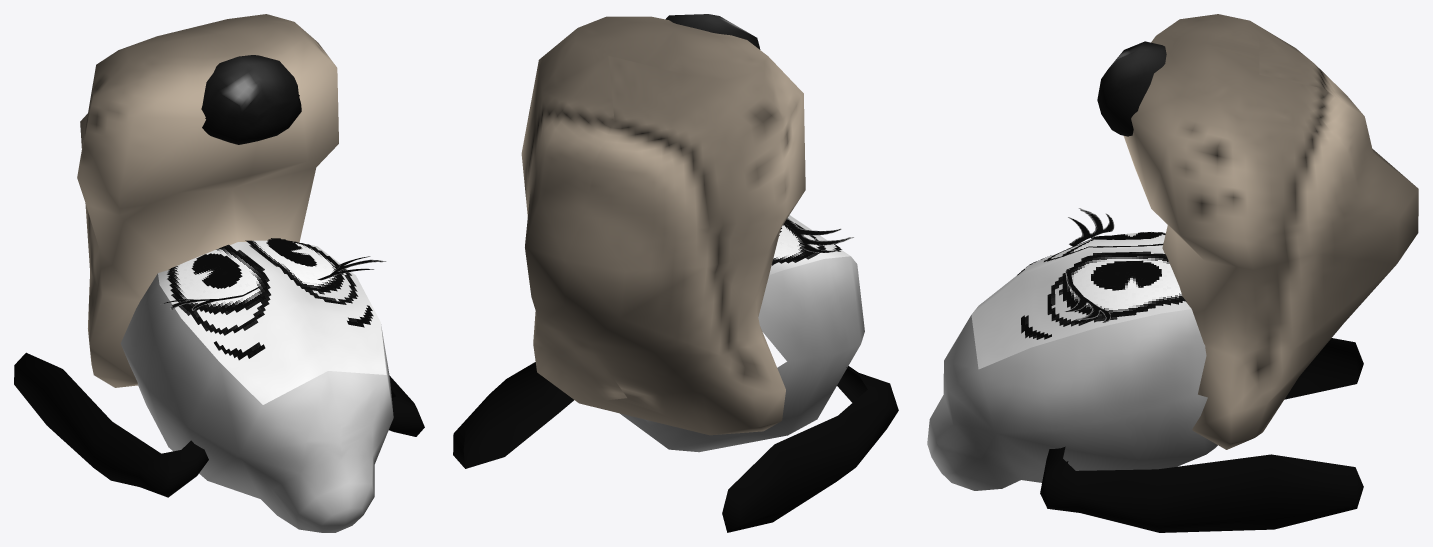
Rendered from dll.glb.
3 renders of one model, left to right at view 1: azimuth 30°, elevation 25°; view 2: azimuth 150°, elevation 25°; view 3: azimuth 270°, elevation 25°, orthographic. The views are drawn at different scales.
Parts seen in each view (by area): view 1: muzzle, head, head-front, ears, eyes, nose, def_left_pupil, eyelashes, def_right_pupil; view 2: muzzle, ears, head, nose, eyes, head-front, eyelashes; view 3: muzzle, head, ears, head-front, eyes, nose, def_right_pupil, eyelashes.
Part boxes in pixels (x1=…): muzzle: x1=77, y1=14, x2=338, y2=387; head: x1=120, y1=273, x2=393, y2=532; head-front: x1=158, y1=242, x2=386, y2=404; ears: x1=14, y1=352, x2=424, y2=497; eyes: x1=167, y1=240, x2=373, y2=360; nose: x1=201, y1=55, x2=301, y2=144; def_left_pupil: x1=191, y1=253, x2=242, y2=288; eyelashes: x1=161, y1=256, x2=386, y2=310; def_right_pupil: x1=266, y1=238, x2=316, y2=266; muzzle: x1=521, y1=16, x2=805, y2=435; ears: x1=453, y1=362, x2=898, y2=532; head: x1=620, y1=256, x2=864, y2=452; nose: x1=665, y1=14, x2=760, y2=49; eyes: x1=771, y1=223, x2=841, y2=265; head-front: x1=769, y1=215, x2=850, y2=274; eyelashes: x1=784, y1=218, x2=853, y2=252; muzzle: x1=1123, y1=14, x2=1418, y2=449; head: x1=927, y1=309, x2=1217, y2=490; ears: x1=1040, y1=338, x2=1363, y2=532; head-front: x1=971, y1=232, x2=1191, y2=369; eyes: x1=1017, y1=232, x2=1186, y2=339; nose: x1=1097, y1=41, x2=1166, y2=136; def_right_pupil: x1=1091, y1=260, x2=1161, y2=290; eyelashes: x1=1064, y1=208, x2=1114, y2=322.
Bounding box in the file's own units: 1.2 × 1.64 × 1.65.
Materials: 7 (6 with a texture image).
